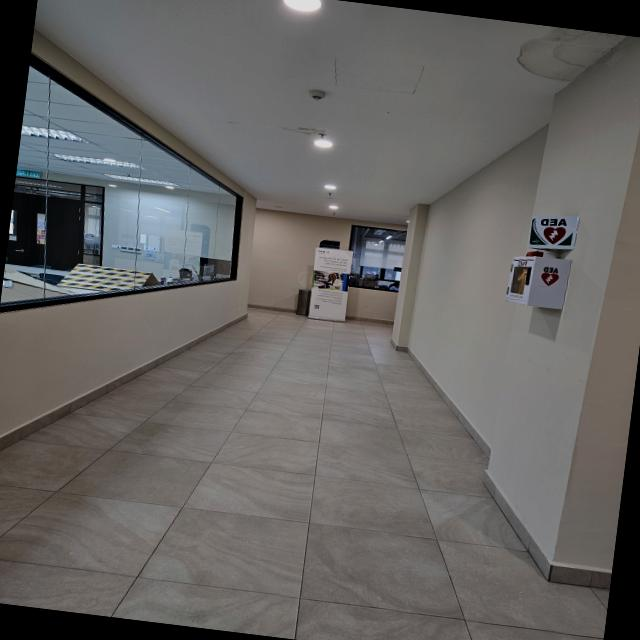footpath: (51, 313, 492, 640)
obstacle: (503, 202, 581, 309)
